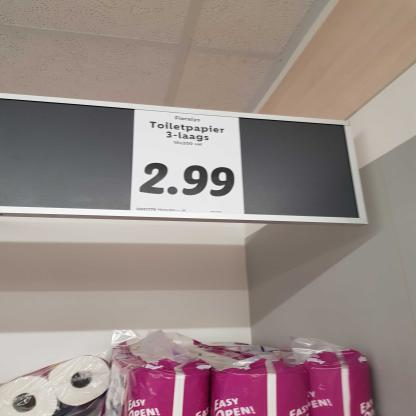prtg: (131, 110, 245, 215)
